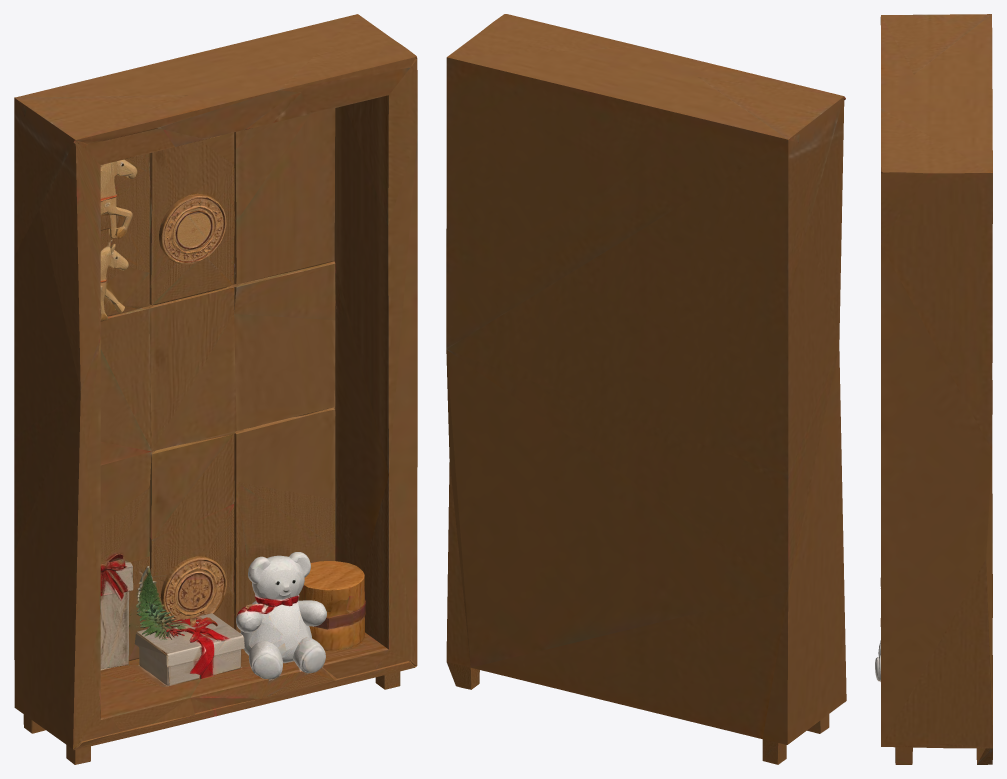
The model's file is xmas_toyshelf.glb.
The picture shows the model from 3 angles, left to right: view 1: azimuth 30°, elevation 25°; view 2: azimuth 150°, elevation 25°; view 3: azimuth 270°, elevation 25°; orthographic projection. The views are drawn at different scales.
Bounding box in the file's own units: 1.08 × 1.9 × 0.3404.
Materials: 1 (1 with a texture image).
